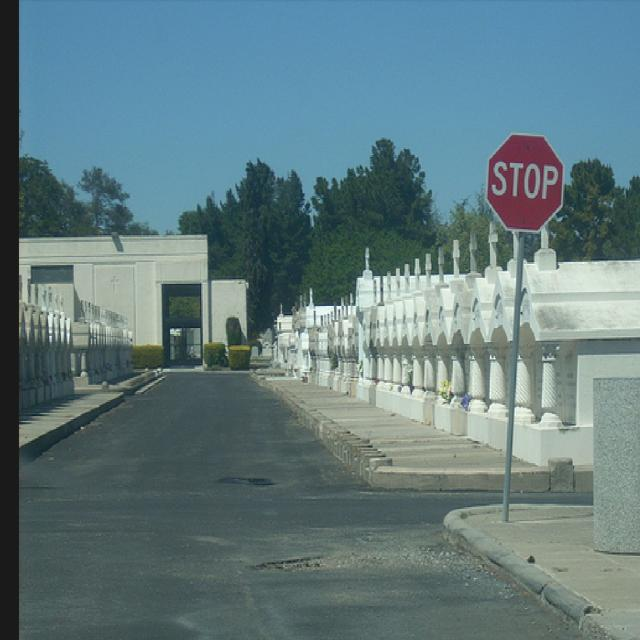STOP: (481, 124, 566, 238)
